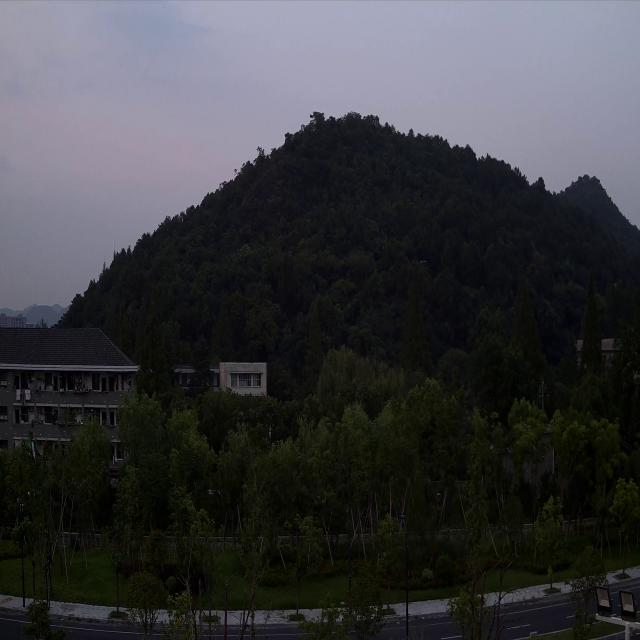drone: (416, 258, 428, 265)
